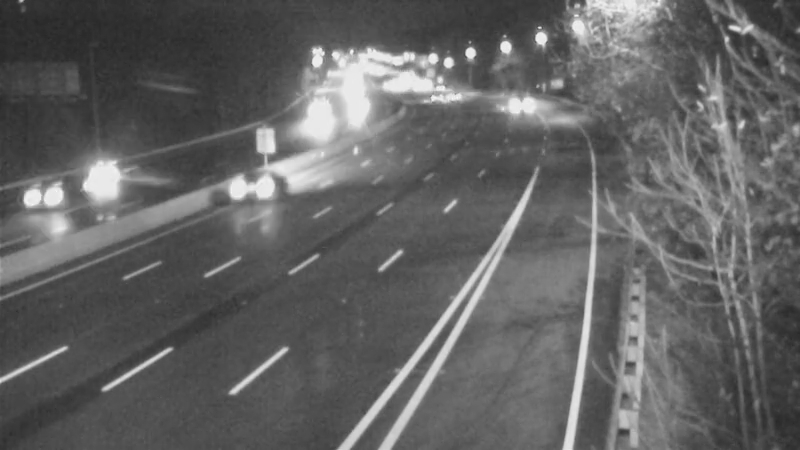vehicle: (209, 142, 289, 222), (1, 158, 81, 238), (75, 128, 155, 208), (428, 76, 478, 126), (404, 72, 454, 122), (492, 76, 542, 126), (285, 86, 335, 136)
